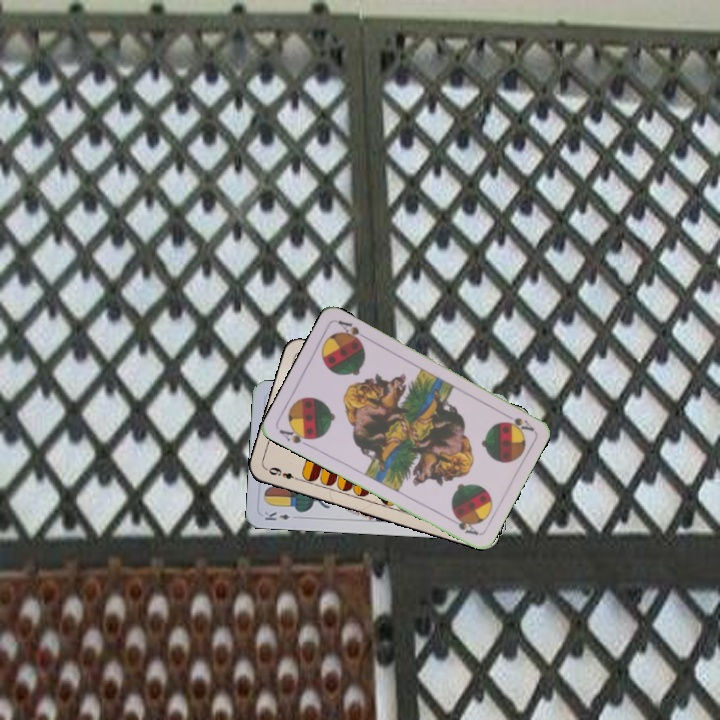E9: (264, 463, 302, 483)
EK: (260, 508, 292, 523)
SA: (275, 422, 316, 450), (498, 408, 536, 434)
